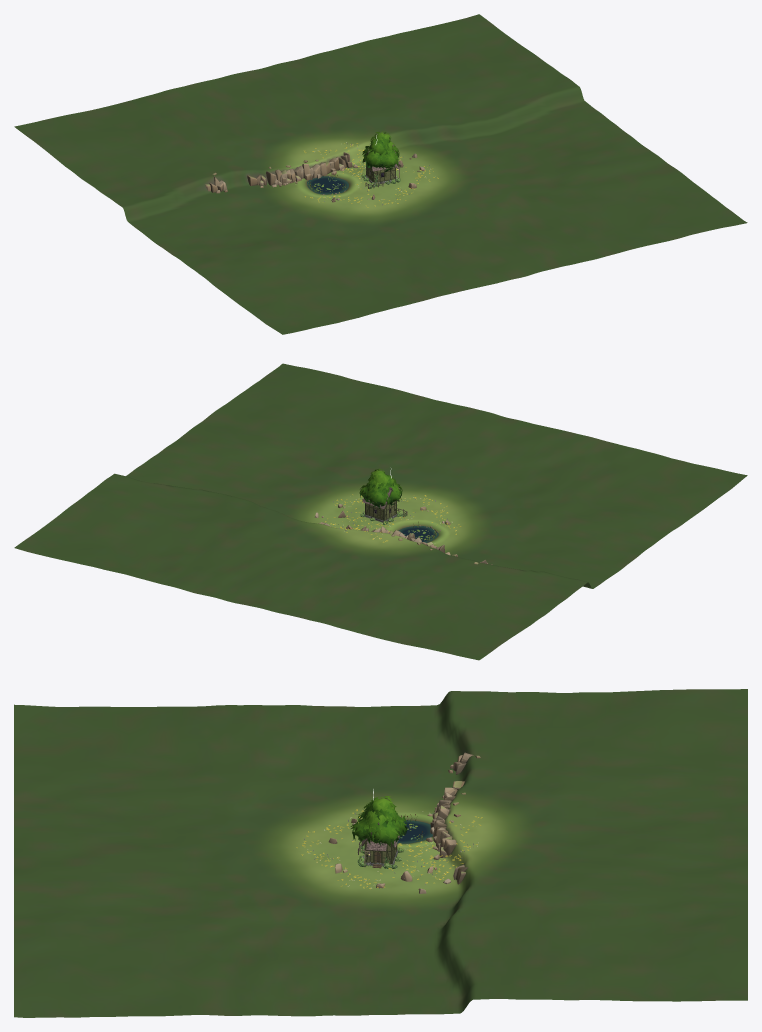
3 renders of one model, top to bottom at view 1: azimuth 30°, elevation 25°; view 2: azimuth 150°, elevation 25°; view 3: azimuth 270°, elevation 25°, orthographic. The views are drawn at different scales.
Parts seen in each view (by area): view 1: Terrain, Rocks, TreeBroad_green_Shadow, PondWater; view 2: Terrain, Rocks, TreeBroad_green_Shadow; view 3: Terrain, Rocks, TreeBroad_green_Shadow, MeadowFlowers, TreeTall_green_Shadow, House_Wood, PondWater.
Boxes of the visible parts, <box> form: Terrain: <box>14,14,747,334</box>; Rocks: <box>205,152,424,202</box>; TreeBroad_green_Shadow: <box>362,140,399,168</box>; PondWater: <box>307,176,348,194</box>; Terrain: <box>14,363,747,660</box>; Rocks: <box>315,503,492,564</box>; TreeBroad_green_Shadow: <box>359,477,402,507</box>; Terrain: <box>14,689,747,1017</box>; Rocks: <box>328,752,480,893</box>; TreeBroad_green_Shadow: <box>350,809,407,846</box>; MeadowFlowers: <box>296,809,482,888</box>; TreeTall_green_Shadow: <box>363,796,397,844</box>; House_Wood: <box>357,833,397,868</box>; PondWater: <box>397,820,432,843</box>.
Size of the model in its own units: 110 by 12.4 by 110.
